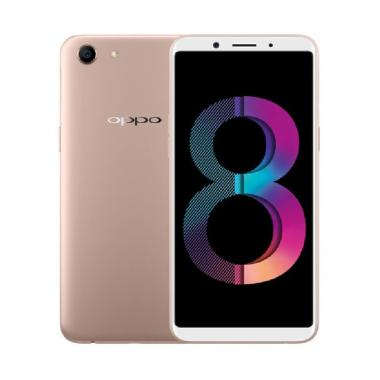Handphone: (166, 30, 322, 347)
